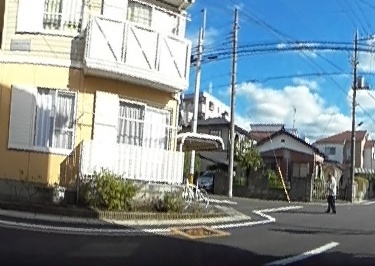person: (323, 169, 337, 212)
